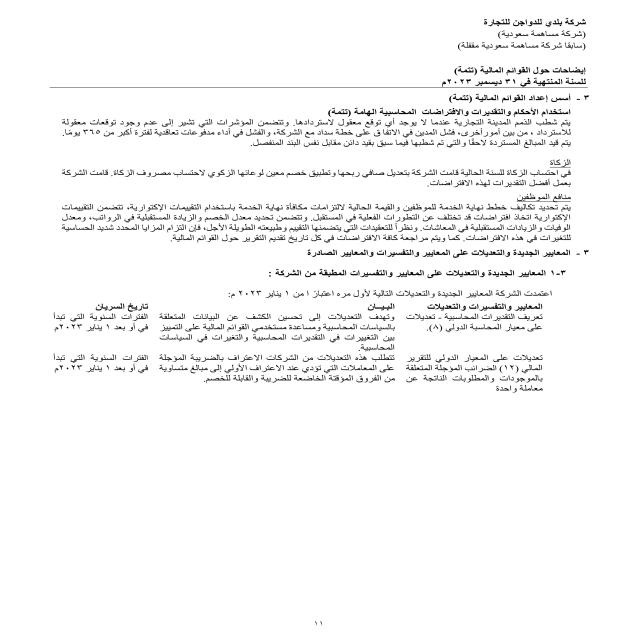notes: (447, 66, 591, 77)
text: (23, 91, 598, 397)
